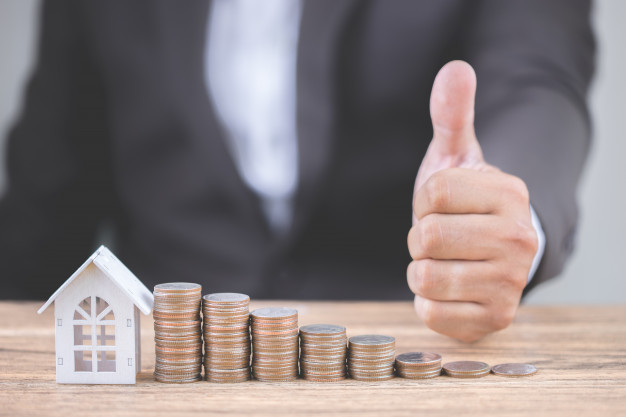thumbsup: (406, 60, 538, 341)
